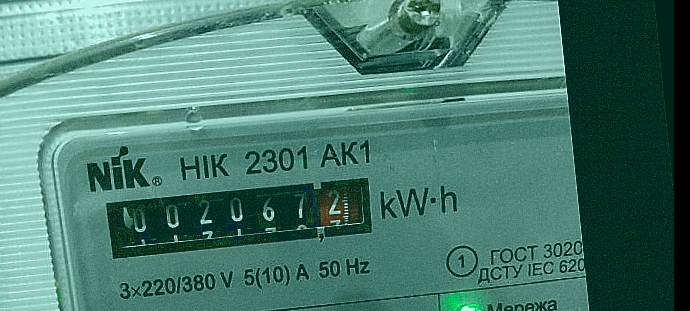0: (128, 204, 149, 235), (224, 192, 245, 222), (161, 199, 181, 229)
2: (323, 185, 344, 216), (194, 196, 214, 226)
6: (257, 192, 278, 223)
7: (290, 189, 309, 220)
screen: (90, 161, 389, 272)
